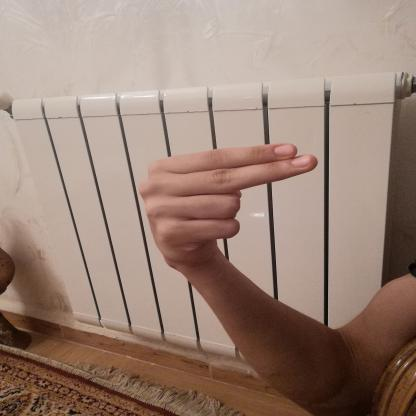AYN: (120, 135, 336, 275)
